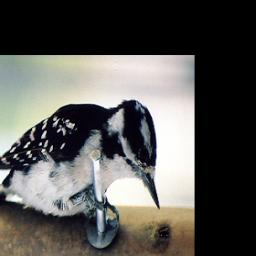Woodpecker: (0, 87, 163, 234)
